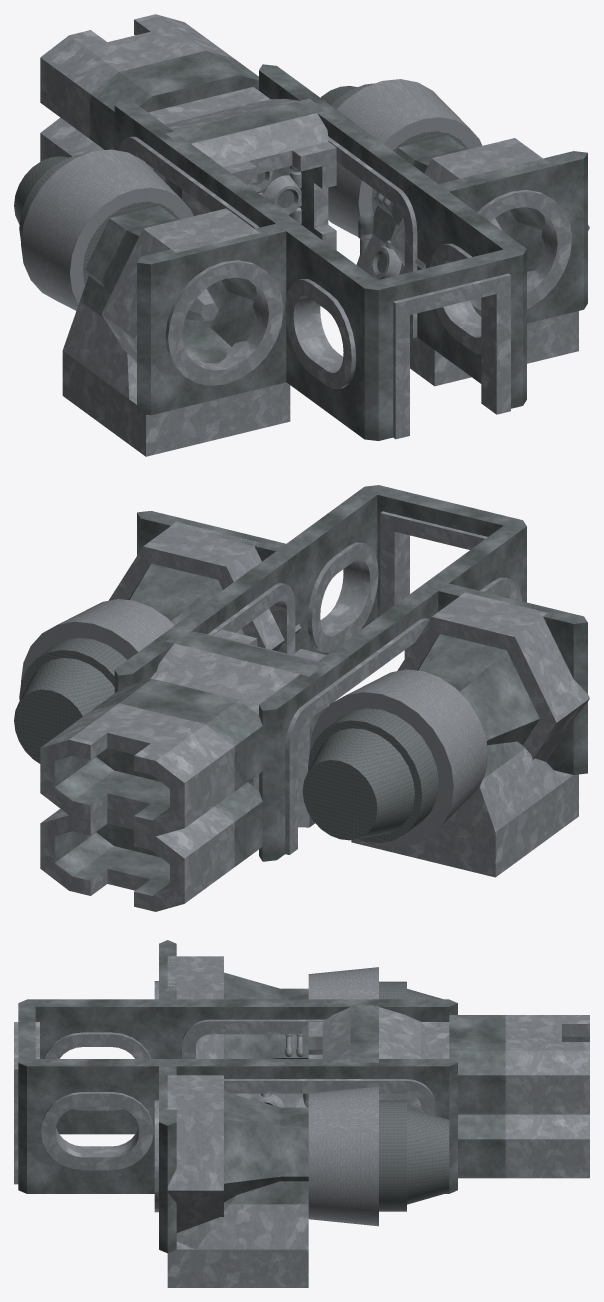
File: EngineRoom2.obj
The picture shows the model from 3 angles, top to bottom: view 1: azimuth 30°, elevation 25°; view 2: azimuth 150°, elevation 25°; view 3: azimuth 270°, elevation 25°; orthographic projection. The views are drawn at different scales.
Parts seen in each view (by area): view 1: mergedBlocks; view 2: mergedBlocks; view 3: mergedBlocks.
Boxes of the visible parts, x1,y1,x2,y2 form: mergedBlocks: [14, 14, 589, 456]; mergedBlocks: [14, 485, 589, 911]; mergedBlocks: [14, 940, 589, 1287].
Bounding box in the file's own units: 3.15 × 1.36 × 4.09.
Materials: 6 (6 with a texture image).
